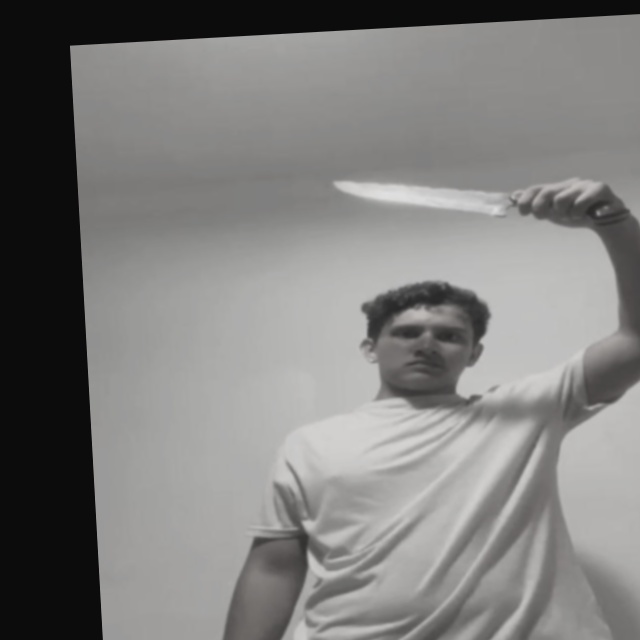Sharp-Object: (332, 171, 506, 224)
